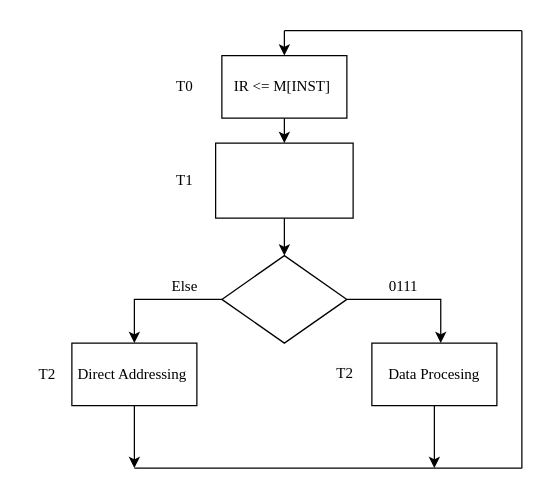
Some shapes in this 545 by 500 pixel diagram are drawn without their labels. Here are the shapes that lost their labels. From the top down, the centre of each, then its label:
At pixel 283 180: "PC <= PC + 1 Pre-Decode LDA, LDB, STA, and STB".
At pixel 284 298: "IR[31:28]".
